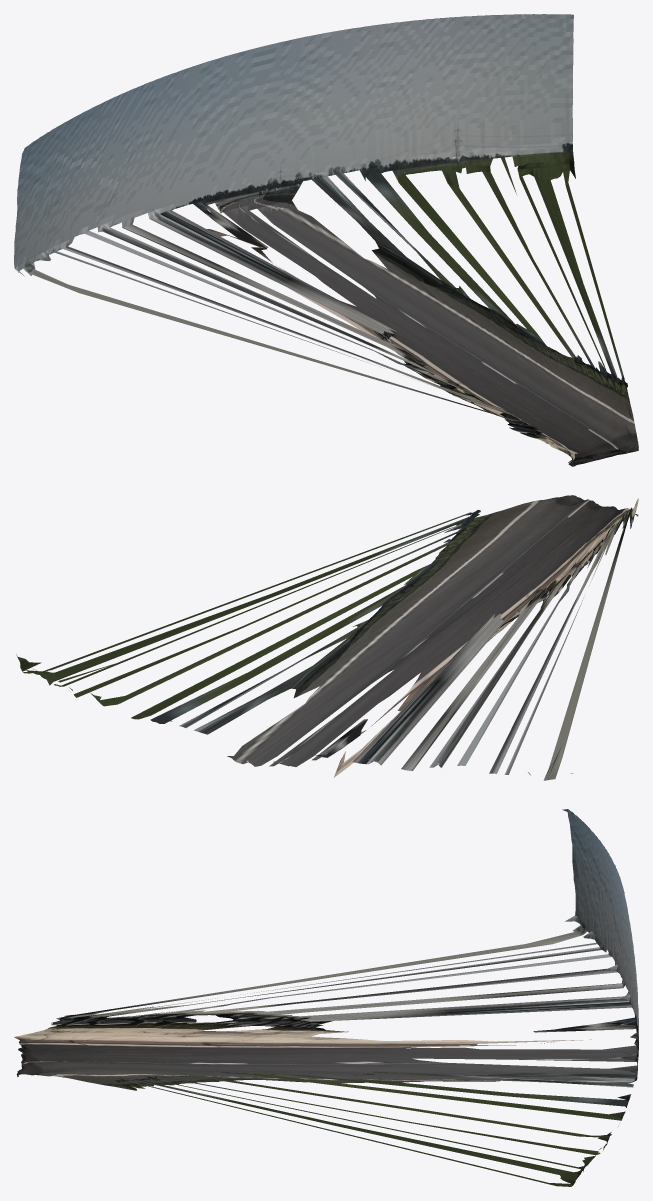
3 views of the same model, one above another, from view 1: azimuth 30°, elevation 25°; view 2: azimuth 150°, elevation 25°; view 3: azimuth 270°, elevation 25° (orthographic). The views are drawn at different scales.
Visible parts, largest first — view 1: defaultobject; view 2: defaultobject; view 3: defaultobject.
Part boxes in pixels (<box>): defaultobject: <box>14,14,638,466</box>; defaultobject: <box>16,495,638,780</box>; defaultobject: <box>14,809,638,1186</box>.
Size of the model in its own units: 41.14 by 12.1 by 44.62.
Materials: 1 (1 with a texture image).
